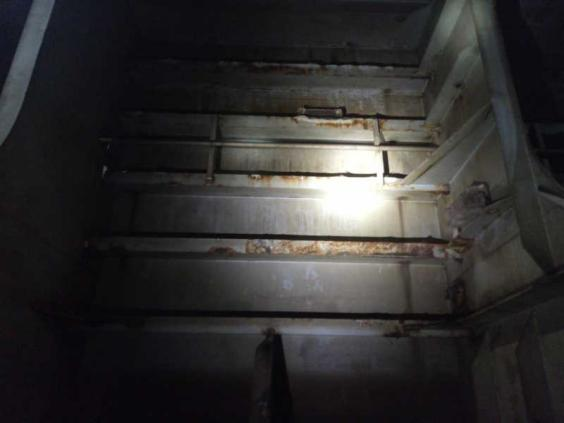corrosion: (289, 241, 443, 263), (208, 234, 294, 259), (302, 114, 389, 133), (241, 171, 314, 190)
